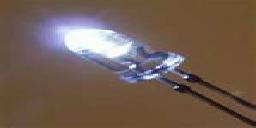LED: (64, 26, 245, 122)
